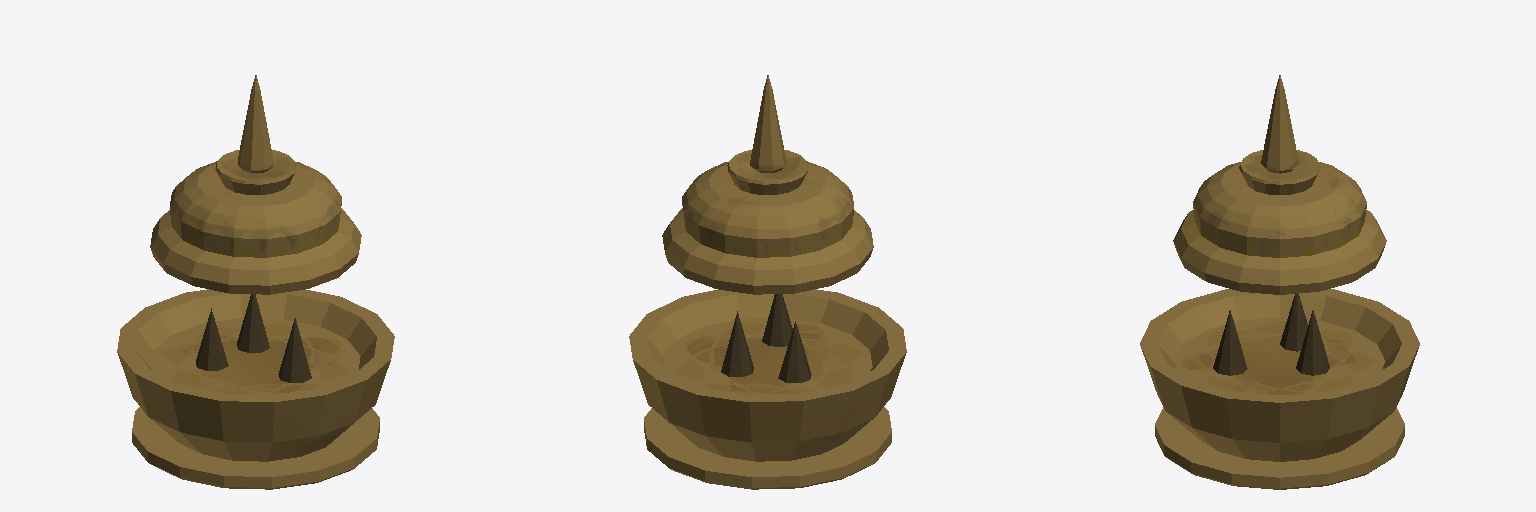
3 renders of one model, left to right at view 1: azimuth 30°, elevation 25°; view 2: azimuth 150°, elevation 25°; view 3: azimuth 270°, elevation 25°, orthographic.
Visible parts, largest first — view 1: Bell_BellMesh; view 2: Bell_BellMesh; view 3: Bell_BellMesh.
Boxes of the visible parts, <box> form: Bell_BellMesh: <box>117,75,394,489</box>; Bell_BellMesh: <box>629,75,906,489</box>; Bell_BellMesh: <box>1140,75,1419,489</box>.
Size of the model in its own units: 0.2743 by 0.3942 by 0.2743.
Materials: 1 (1 with a texture image).